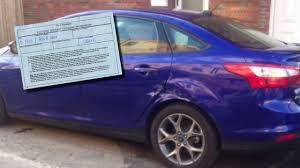quaterpanel-dent: (166, 64, 238, 119)
